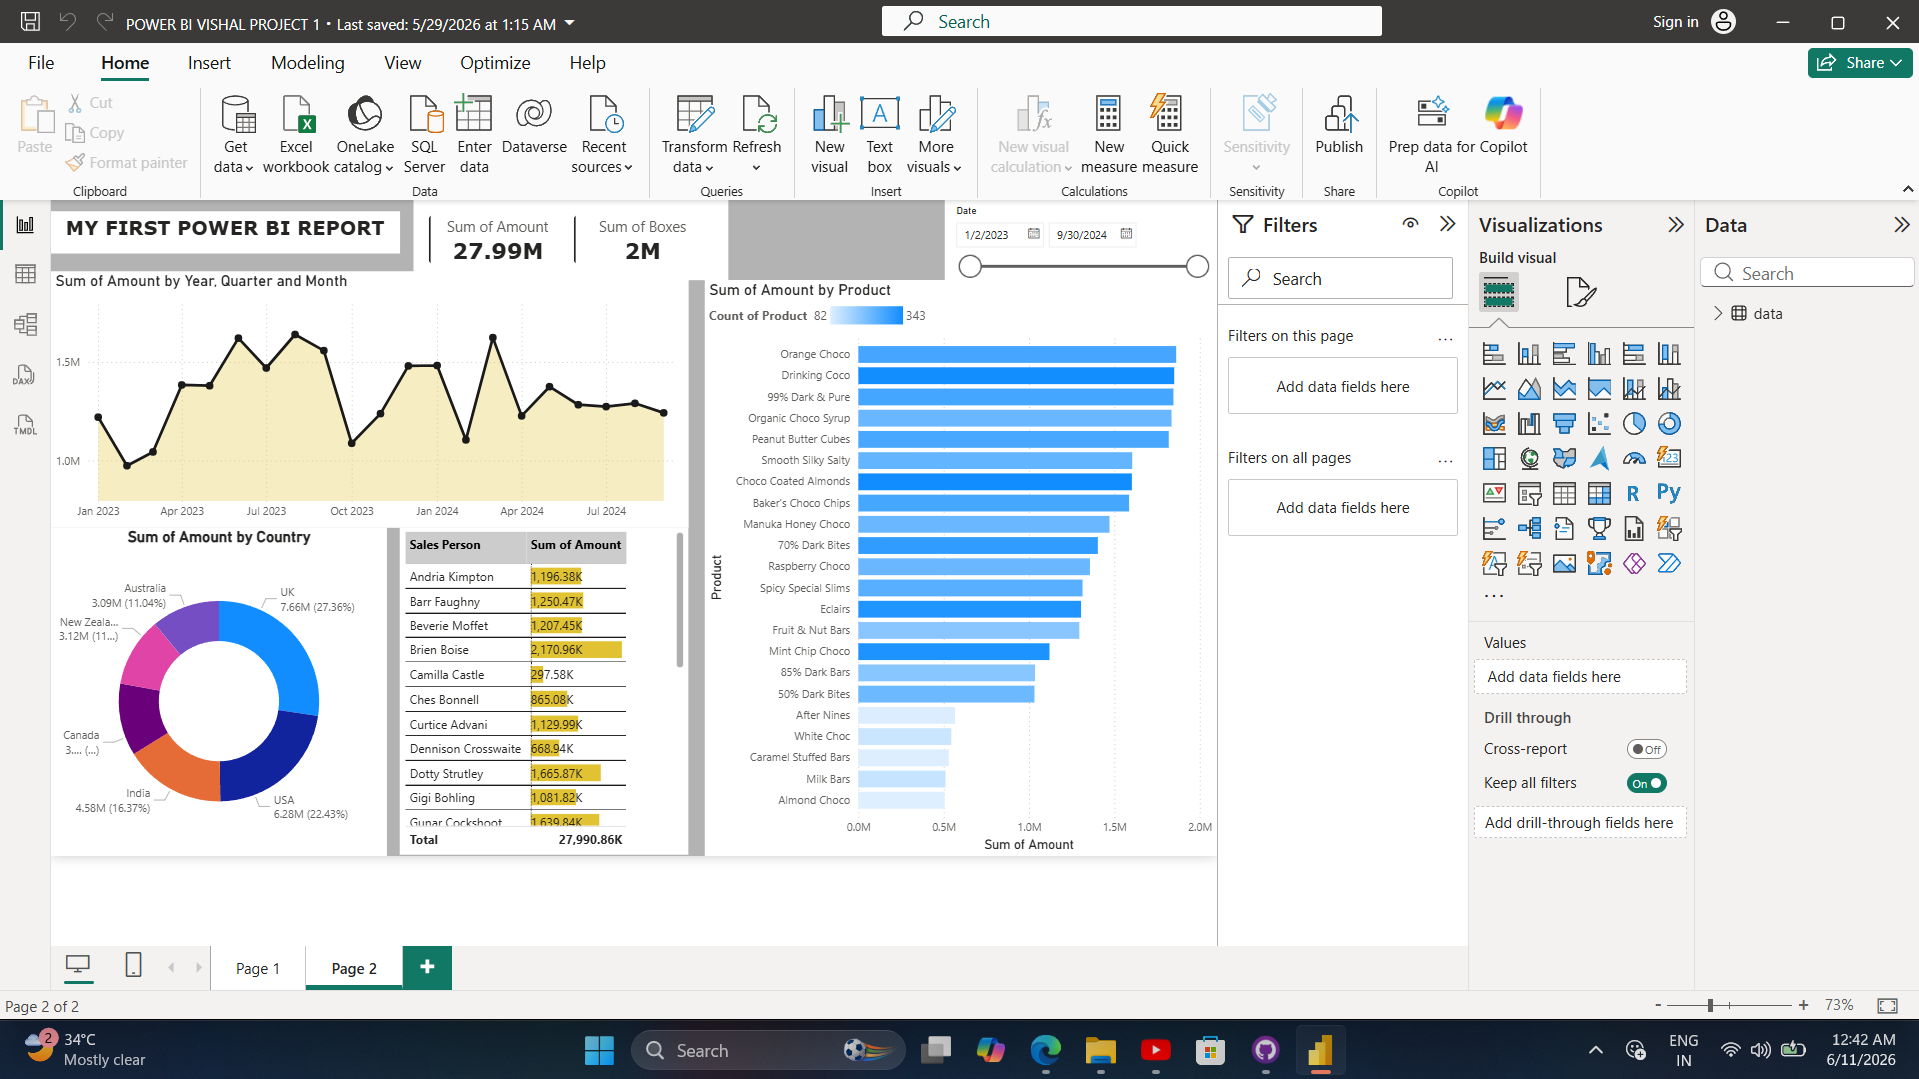

Layout of this report page (visuals, bound fields, positions):
{"tool":"powerbi","page":{"name":"Page 2","canvas":[1280,720],"ordinal":1},"visuals":[{"type":"lineChart","fields":{"Category":["data.Date.Variation.Date Hierarchy.Year","data.Date.Variation.Date Hierarchy.Quarter","data.Date.Variation.Date Hierarchy.Month","data.Date.Variation.Date Hierarchy.Day"],"Y":["Sum(data.Amount)"]},"box":[0,78.2,699.8,281.3],"z":0},{"type":"donutChart","fields":{"Category":["data.Country"],"Y":["Sum(data.Amount)"]},"box":[0,359.5,369.1,360.9],"z":1000},{"type":"tableEx","fields":{"Values":["data.Sales Person","Sum(data.Amount)"]},"box":[382.8,359.5,317,359.5],"z":2000},{"type":"barChart","fields":{"Category":["data.Product"],"Y":["Sum(data.Amount)"]},"box":[717.7,87.8,562.6,632.6],"z":3000},{"type":"cardVisual","fields":{"Data":["Sum(data.Amount)","Sum(data.Boxes)"]},"box":[397.9,0,345.8,87.8],"z":4000},{"type":"slicer","fields":{"Values":["data.Date"]},"box":[981.1,0,299.1,97.4],"z":5000},{"type":"textbox","box":[0,12.3,382.8,46.7],"z":6000}]}

Visuals, with their boxes on the page's 1280x720 design canvas (x1, y1, x2, y2). These are canvas units, not pixel positions in the 1919x1079 screenshot, which may show the page scaled, cropped or inside an application window:
lineChart - data.Date.Variation.Date Hierarchy.Year x data.Date.Variation.Date Hierarchy.Quarter: select_region(0, 78, 700, 360)
donutChart - data.Country x Sum(data.Amount): select_region(0, 360, 369, 720)
tableEx - data.Sales Person x Sum(data.Amount): select_region(383, 360, 700, 719)
barChart - data.Product x Sum(data.Amount): select_region(718, 88, 1280, 720)
cardVisual - Sum(data.Amount) x Sum(data.Boxes): select_region(398, 0, 744, 88)
slicer - data.Date: select_region(981, 0, 1280, 97)
textbox: select_region(0, 12, 383, 59)
